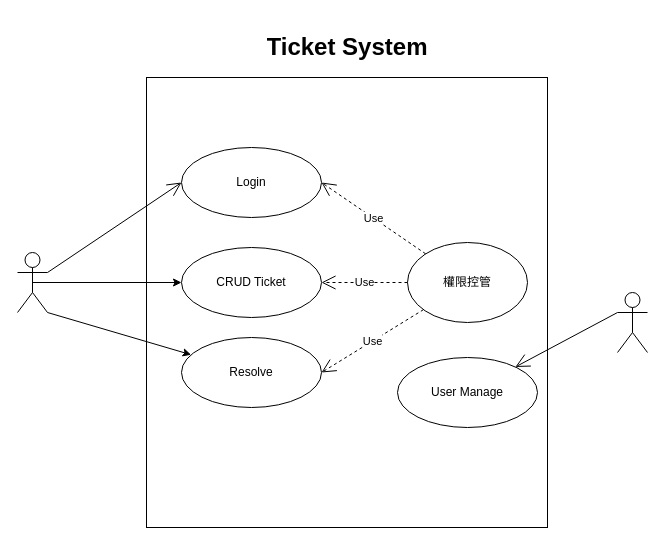
The diagram is 667 pixels wide and 545 high, and some of its shapes have lost their labels. Each missing label, with the box of its shape:
Admin: (616, 292, 648, 352)
User: (16, 252, 48, 312)
